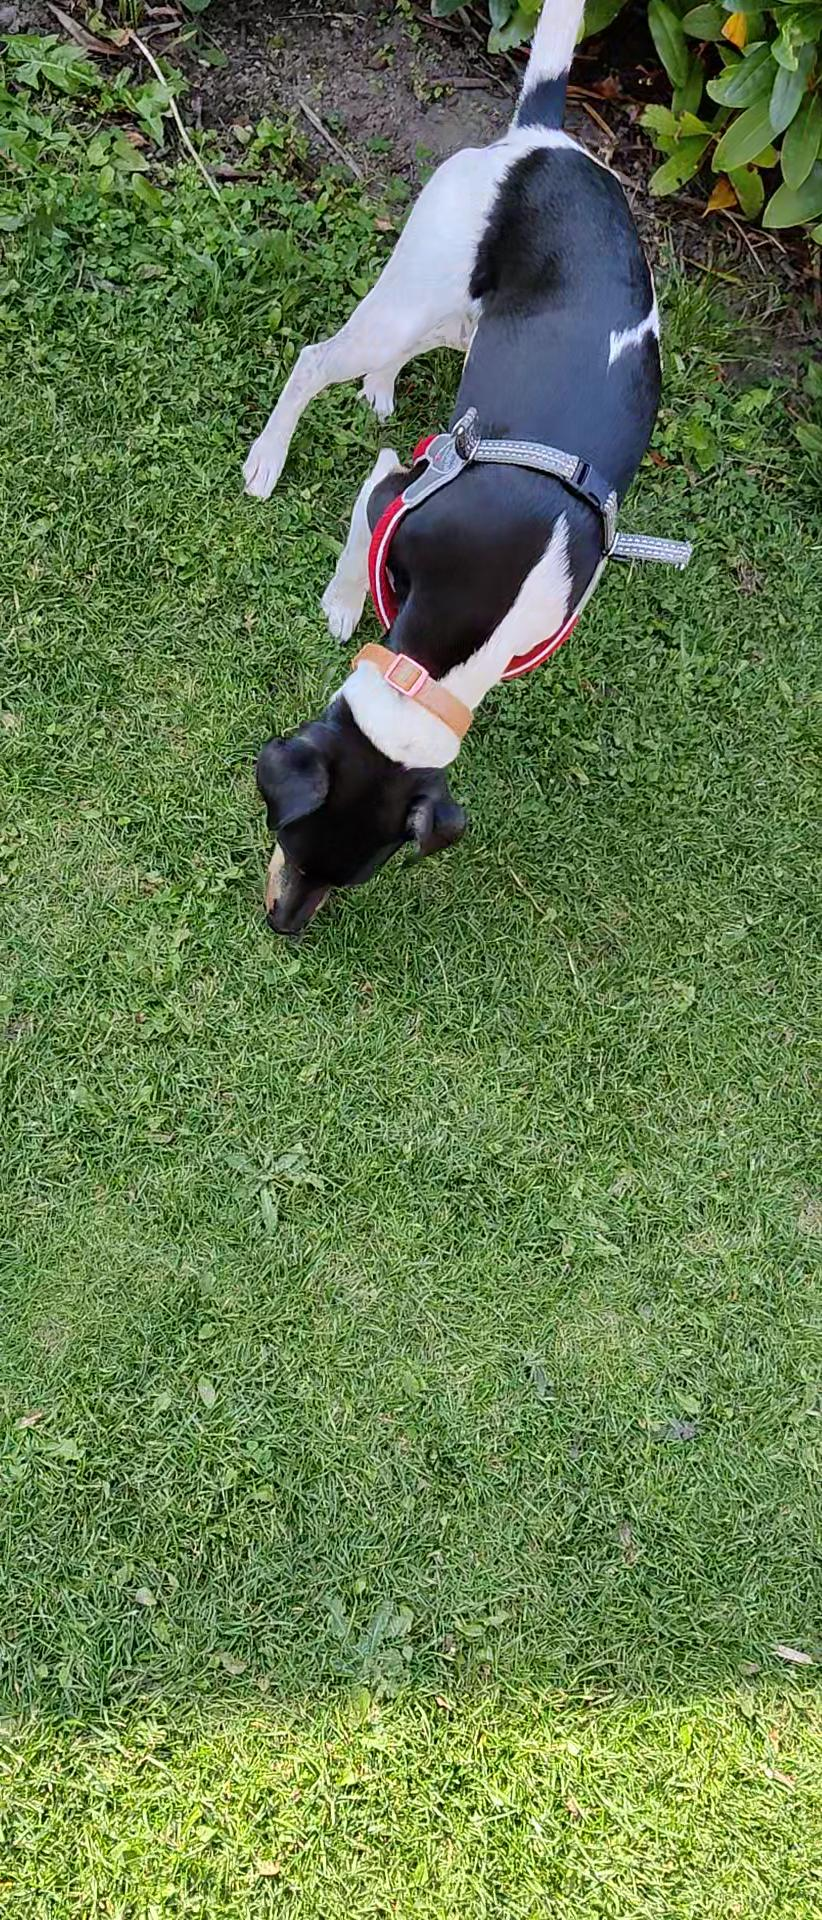Dog: (213, 0, 693, 955)
